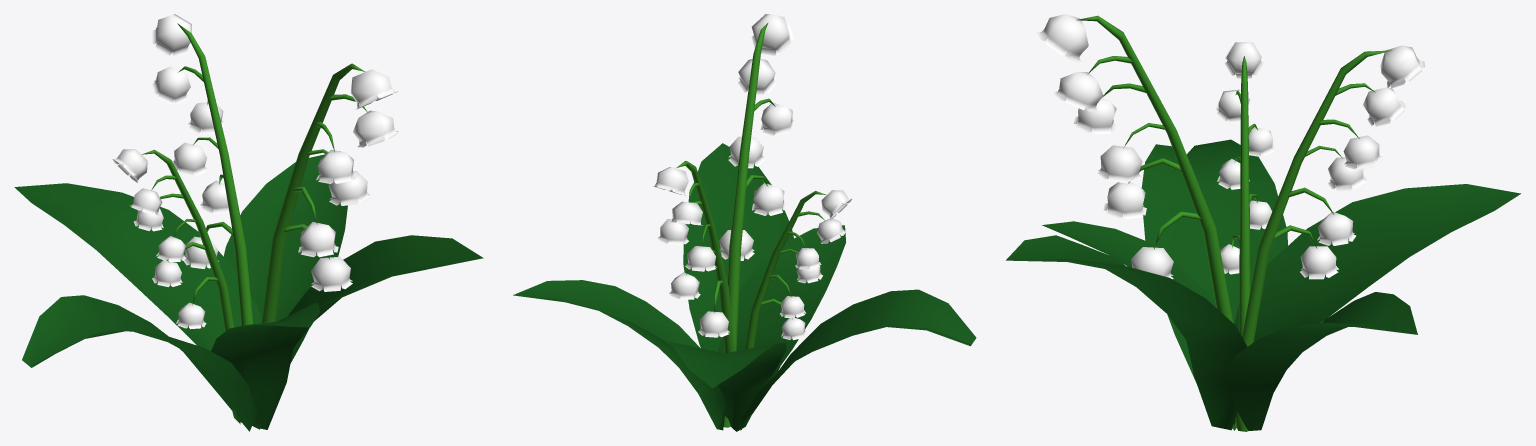
Rendered from fleur 1.fbx.
The picture shows the model from 3 angles, left to right: view 1: azimuth 30°, elevation 25°; view 2: azimuth 150°, elevation 25°; view 3: azimuth 270°, elevation 25°; orthographic projection. The views are drawn at different scales.
Visible parts, largest first — view 1: Flower.006; view 2: Flower.006; view 3: Flower.006.
Boxes of the visible parts, <box> form: Flower.006: <box>14,14,483,431</box>; Flower.006: <box>513,14,976,431</box>; Flower.006: <box>1006,14,1520,431</box>.
Bounding box in the file's own units: 0.4875 × 0.452 × 0.481.
